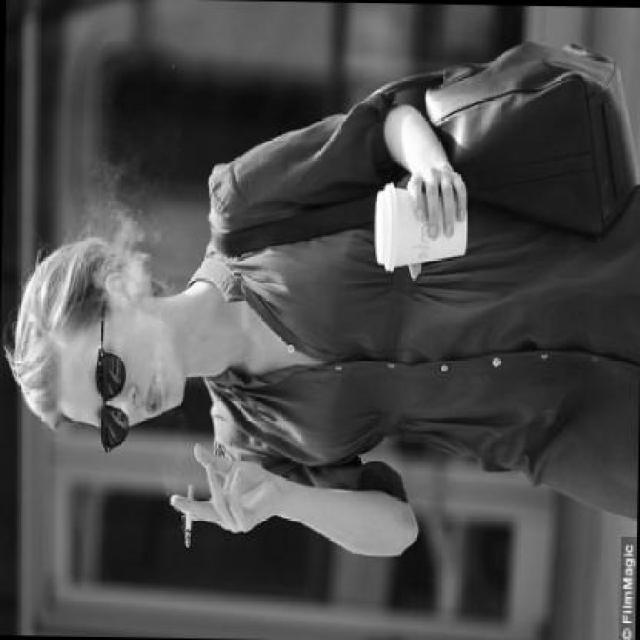cigarette: (182, 480, 195, 549)
